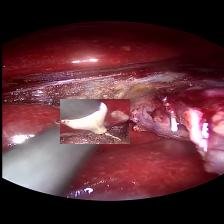Hook: (59, 99, 129, 144)
